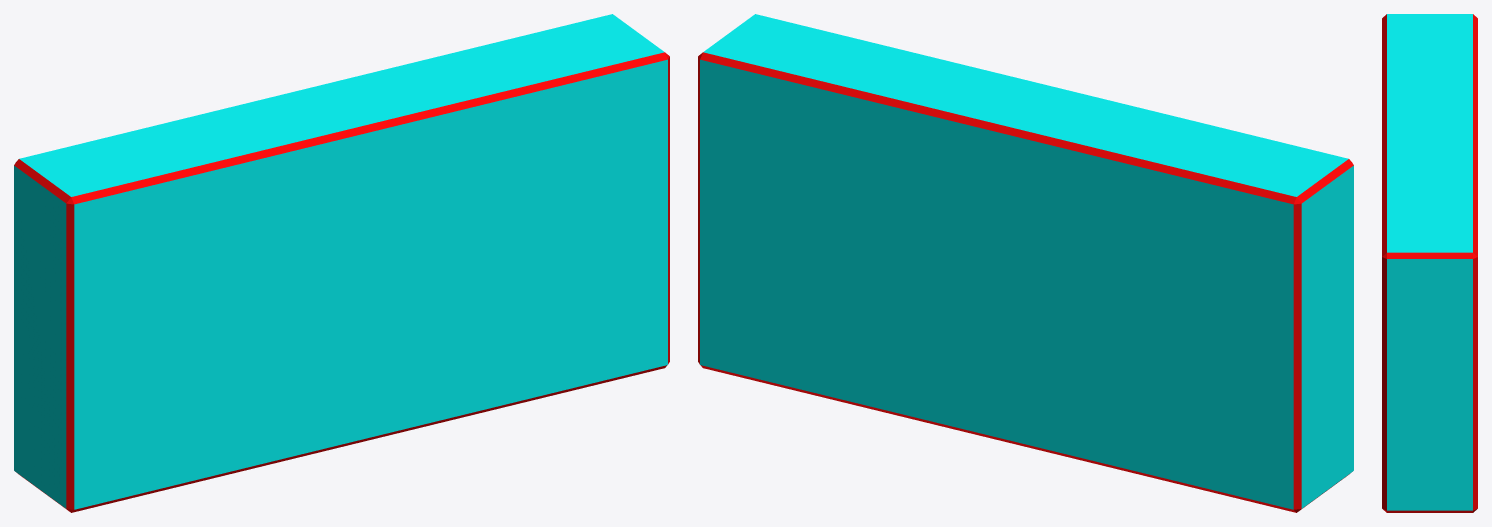
The model's file is L13_BigWall.fbx.
3 renders of one model, left to right at view 1: azimuth 30°, elevation 25°; view 2: azimuth 150°, elevation 25°; view 3: azimuth 270°, elevation 25°, orthographic. The views are drawn at different scales.
Visible parts, largest first — view 1: L13_BigWall; view 2: L13_BigWall; view 3: L13_BigWall.
Boxes of the visible parts, x1,y1,x2,y2 form: L13_BigWall: (14, 14, 669, 512); L13_BigWall: (698, 14, 1353, 512); L13_BigWall: (1382, 14, 1477, 512).
Bounding box in the file's own units: 600 × 300 × 100.
